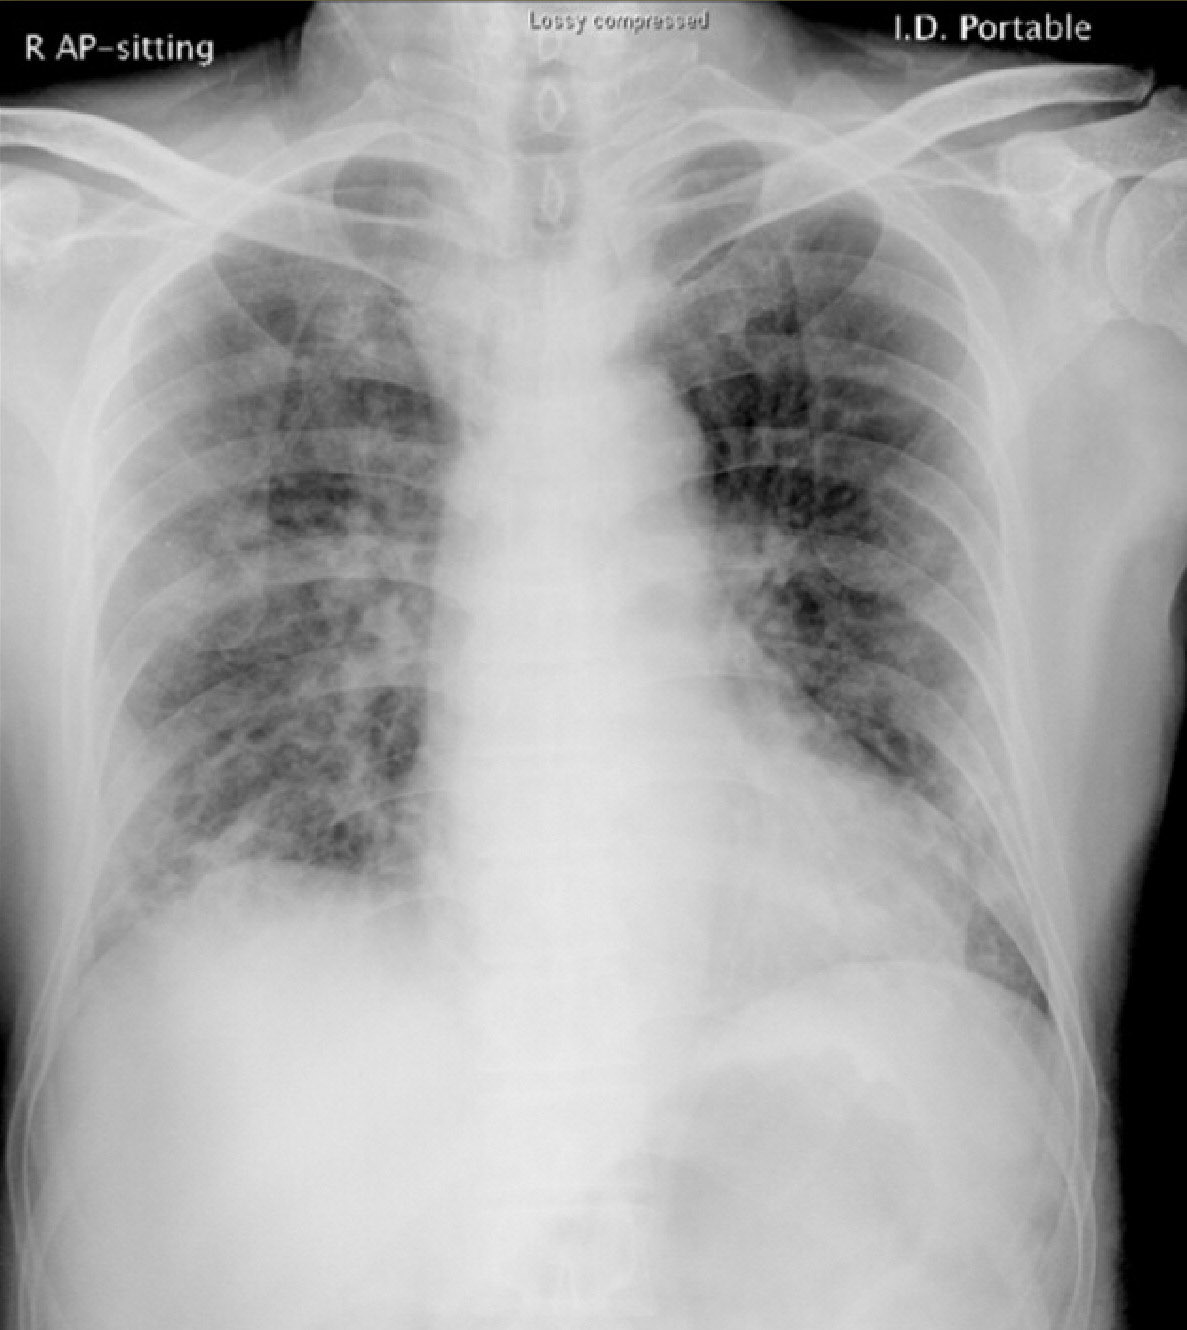Severe: (94, 139, 459, 904), (652, 155, 992, 790)
